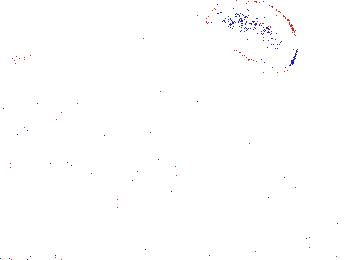moon jellyfish: (137, 18, 243, 112), (204, 1, 298, 73), (101, 1, 197, 59), (1, 54, 66, 134), (65, 12, 124, 82)
